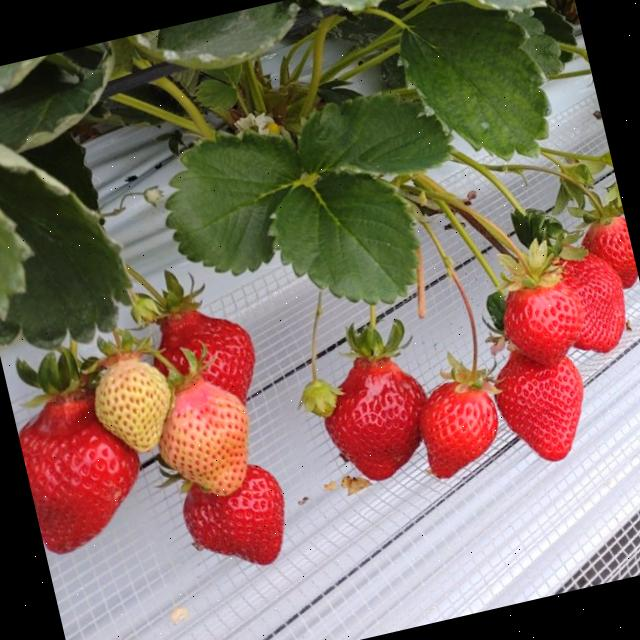Ripe Strawberry: (10, 374, 162, 580), (173, 457, 314, 604), (304, 336, 430, 499), (137, 274, 266, 412), (410, 356, 519, 500), (478, 263, 582, 370), (561, 241, 640, 367), (514, 355, 593, 466), (576, 192, 638, 284), (577, 194, 636, 287)
